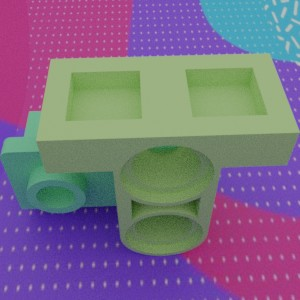lego: (35, 53, 300, 255), (0, 106, 202, 213)
